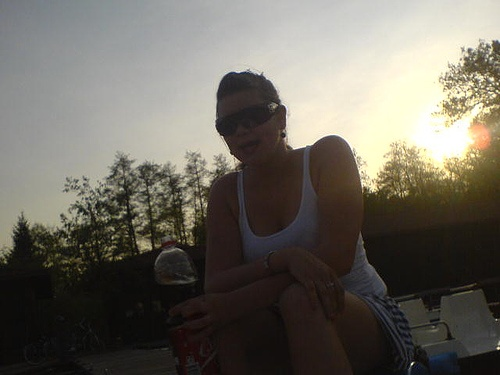head: (214, 71, 288, 166)
person: (175, 63, 422, 372)
